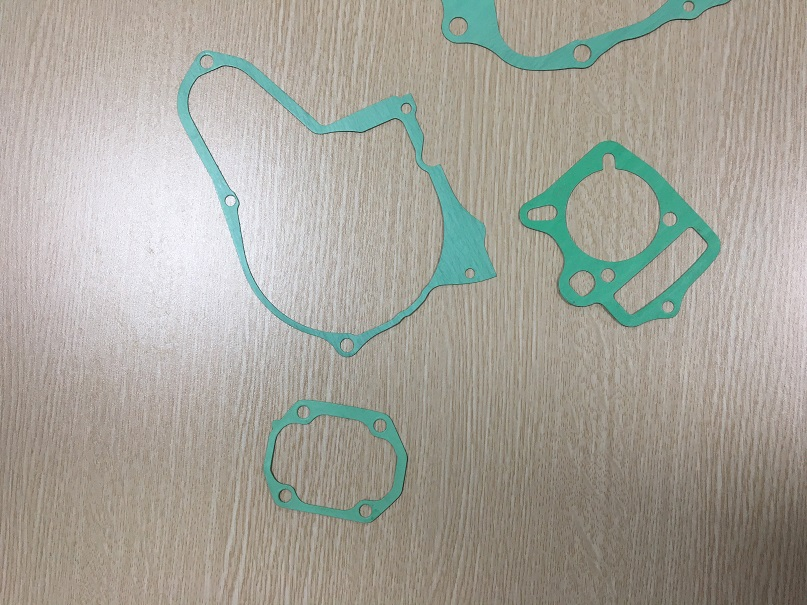type1: (164, 40, 518, 363)
type2: (259, 392, 412, 529)
type4: (513, 132, 726, 335)
